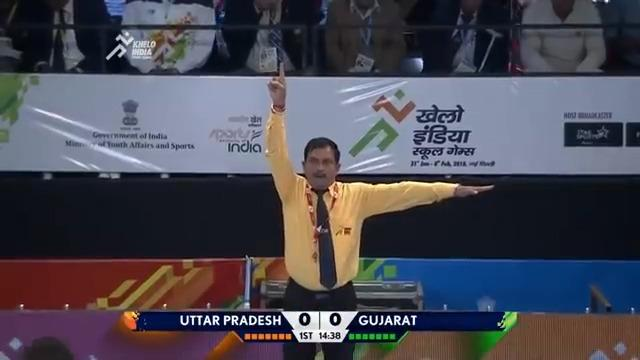referee: (261, 62, 495, 358)
